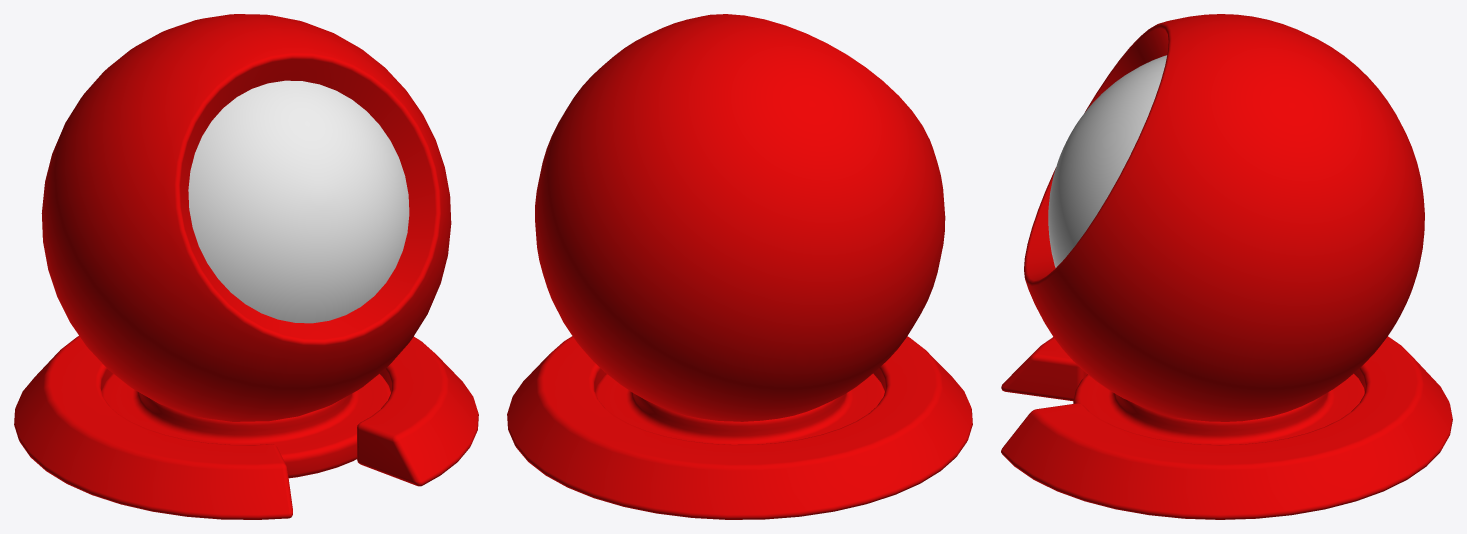
File: SB_ShaderBall.fbx
The picture shows the model from 3 angles, left to right: view 1: azimuth 30°, elevation 25°; view 2: azimuth 150°, elevation 25°; view 3: azimuth 270°, elevation 25°; orthographic projection.
Parts seen in each view (by area): view 1: SB_Base1, SB_InnerBall; view 2: SB_Base1; view 3: SB_Base1, SB_InnerBall.
Part boxes in pixels (left/top/right/bottom): SB_Base1: left=14, top=14, right=478, bottom=519; SB_InnerBall: left=188, top=80, right=409, bottom=323; SB_Base1: left=507, top=14, right=972, bottom=519; SB_Base1: left=1001, top=14, right=1452, bottom=519; SB_InnerBall: left=1048, top=55, right=1166, bottom=267.
Bounding box in the file's own units: 38.2 × 35.37 × 37.13.
